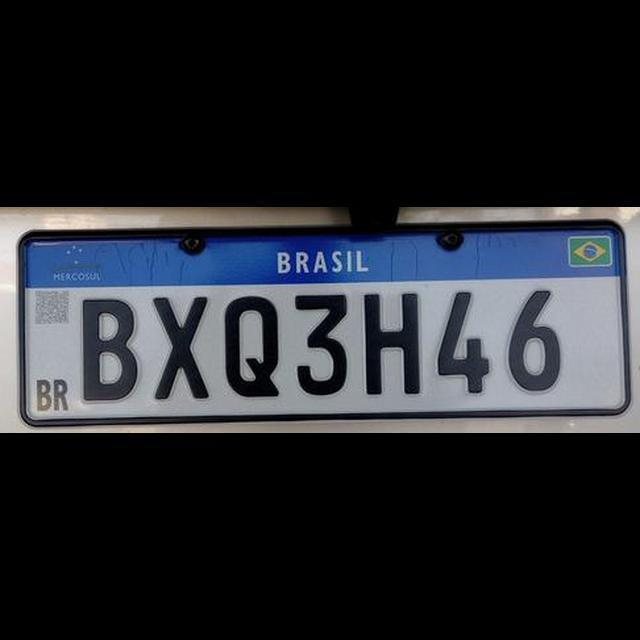Caractere: (151, 292, 213, 402), (361, 290, 423, 398), (506, 286, 566, 394), (220, 292, 280, 400), (78, 294, 138, 402), (292, 288, 348, 398), (436, 286, 490, 394)
Placa: (18, 217, 632, 425)
